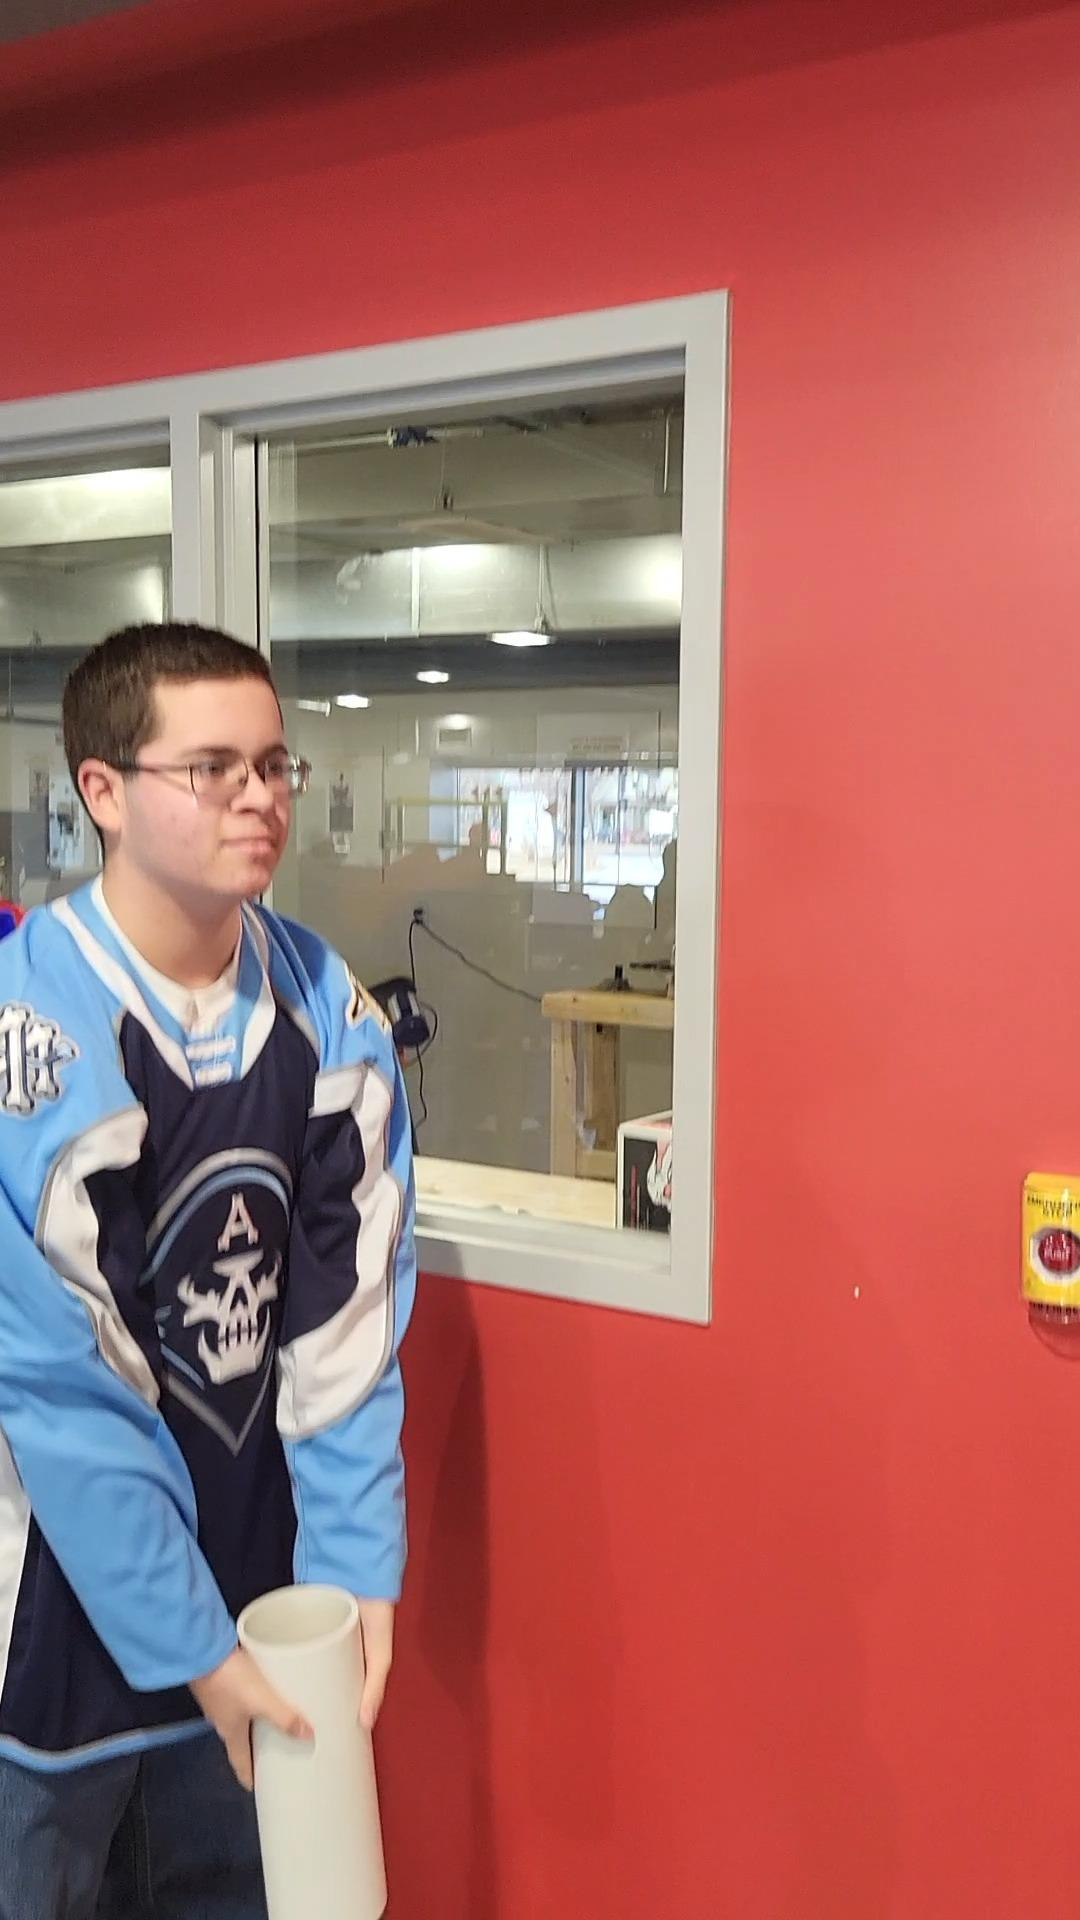coral: (233, 1567, 404, 1920)
